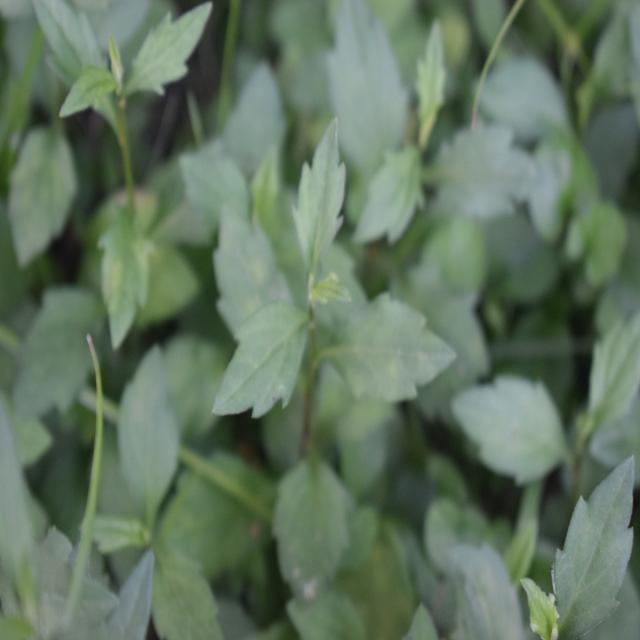Indian aster: (189, 124, 450, 556)
